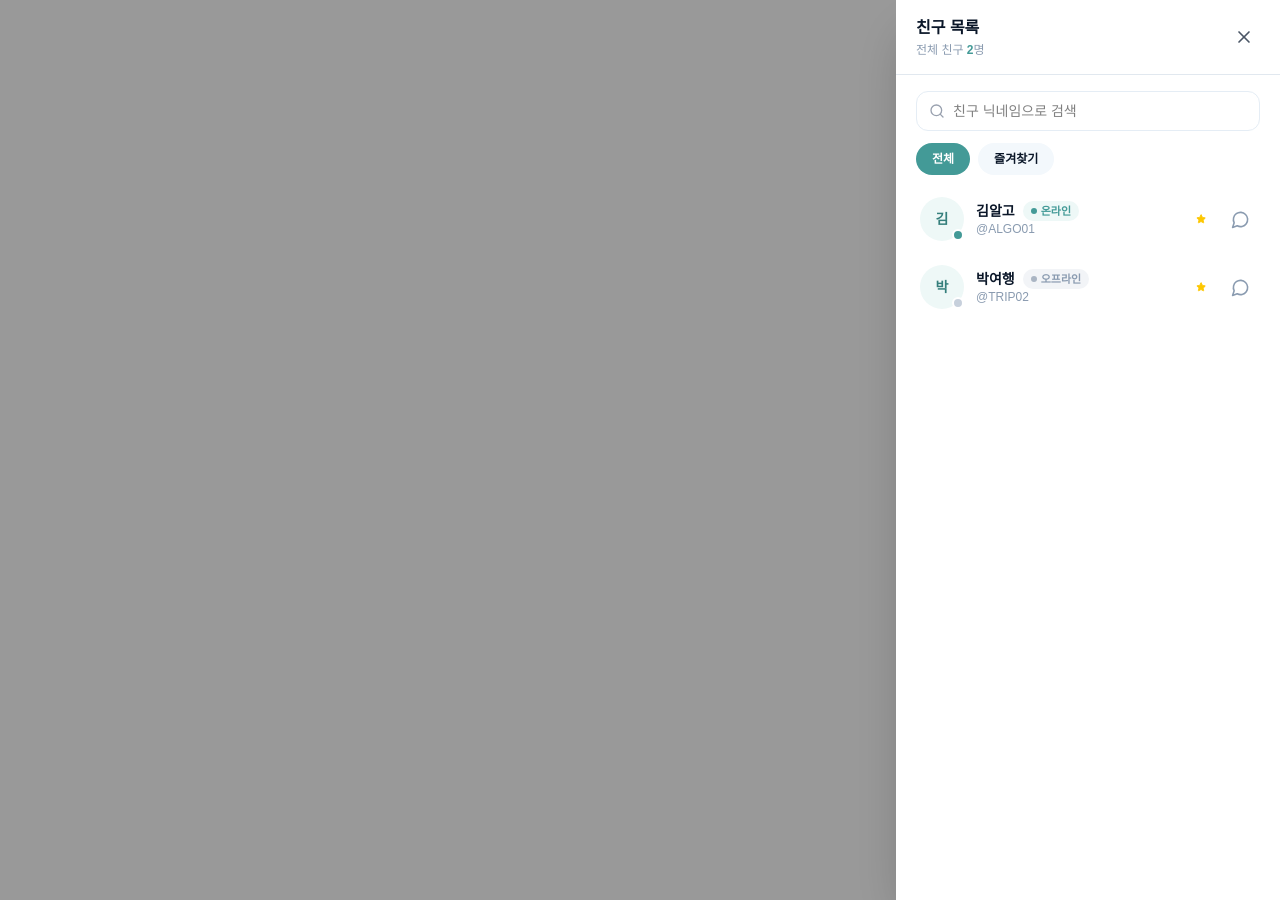
Test case: FriendPanel 컴포넌트 테스트 › 즐겨찾기 탭으로 전환하면 즐겨찾기한 친구만 표시된다
Check: the text "김알고" is shown, box left=976, top=201, right=1015, bottom=221
Click the button "즐겨찾기": (1016, 159) left=978, top=143, right=1054, bottom=175
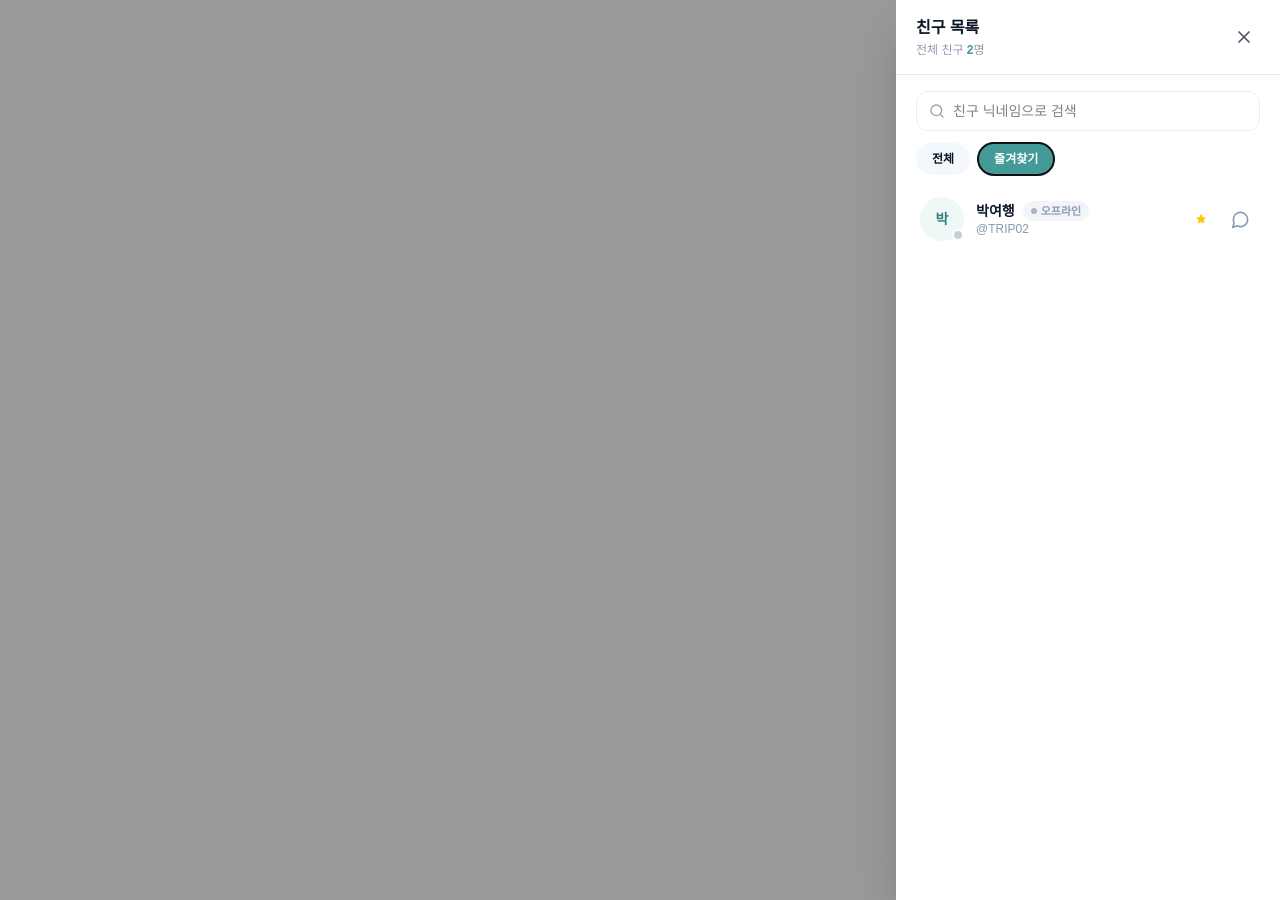
Check: the text "박여행" is shown, box left=976, top=201, right=1015, bottom=221
Check: the text "김알고" is gone
